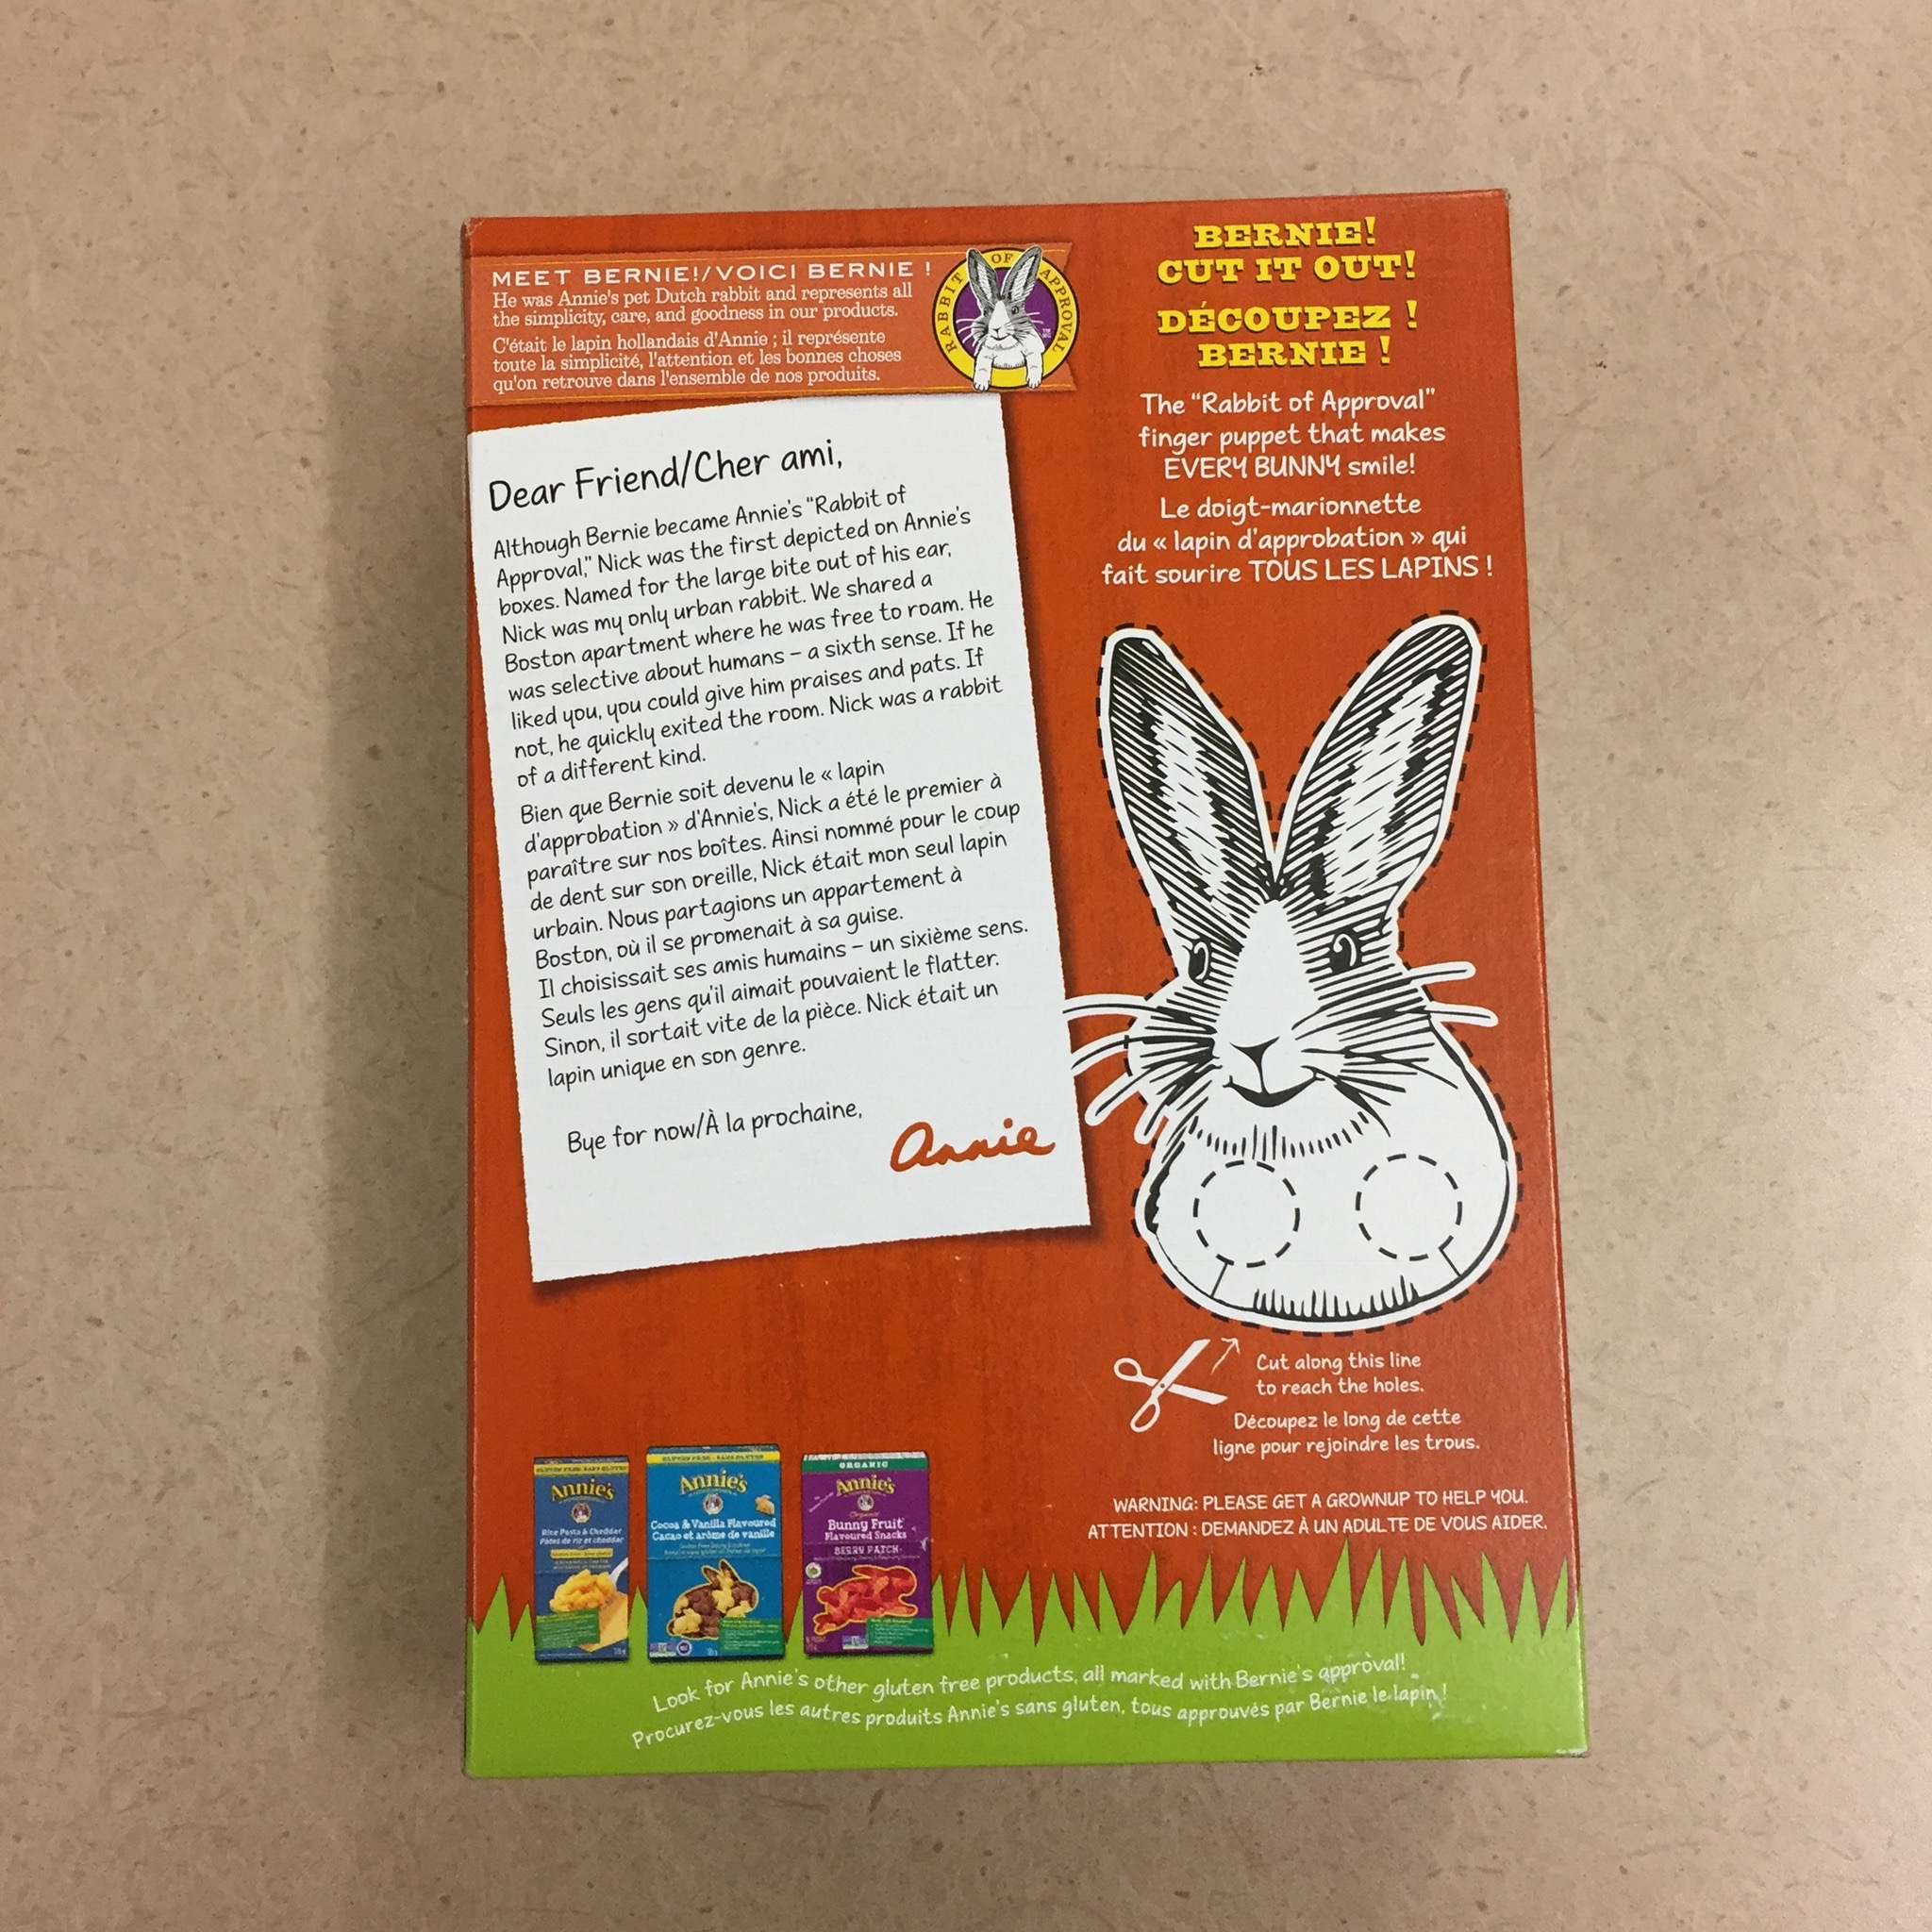annies_snickerdoodle_cinnamon_sugar: (460, 188, 1596, 1785)
